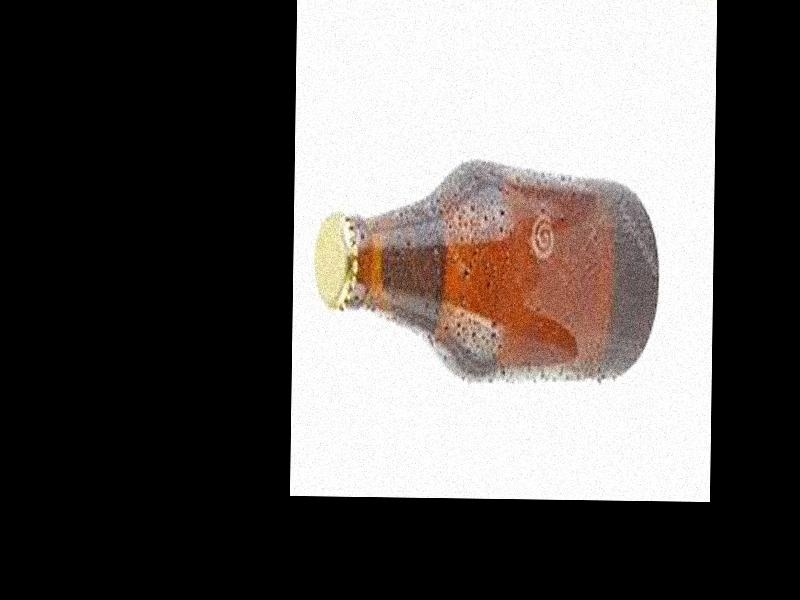Beer: (314, 159, 659, 384)
